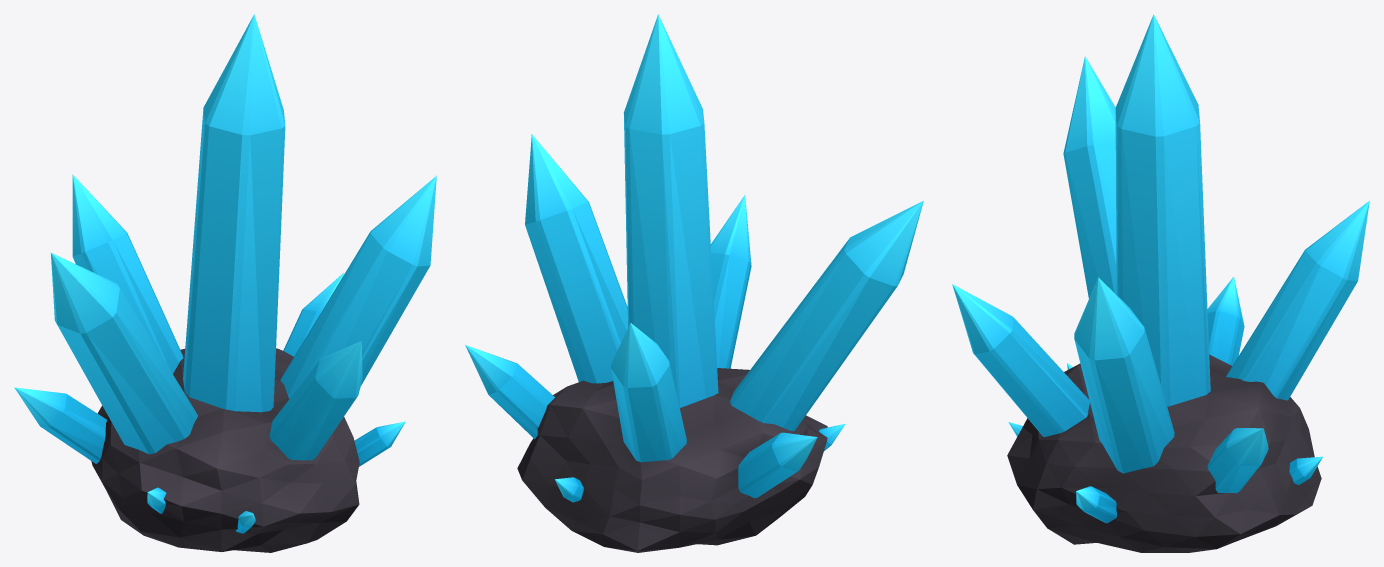
The model's file is crystal-B6LC33tb.glb.
The picture shows the model from 3 angles, left to right: view 1: azimuth 30°, elevation 25°; view 2: azimuth 150°, elevation 25°; view 3: azimuth 270°, elevation 25°; orthographic projection. The views are drawn at different scales.
Parts seen in each view (by area): view 1: crystal, crystal_root; view 2: crystal, crystal_root; view 3: crystal, crystal_root.
Part boxes in pixels (box(x1,y1,x2,y2)): crystal: box(14, 14, 436, 533); crystal_root: box(91, 348, 359, 552); crystal: box(465, 14, 923, 502); crystal_root: box(517, 368, 827, 552); crystal: box(952, 14, 1369, 523); crystal_root: box(1007, 354, 1321, 552).
Bounding box in the file's own units: 1.49 × 1.85 × 1.33.
